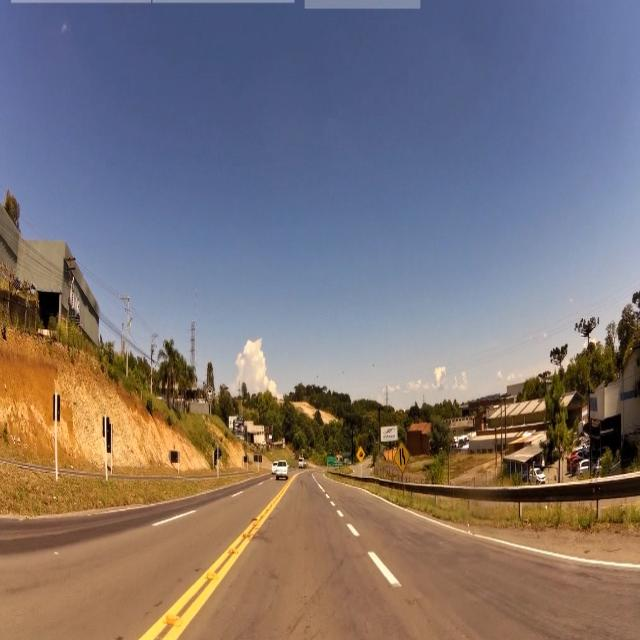A-21e: (389, 440, 414, 477)
